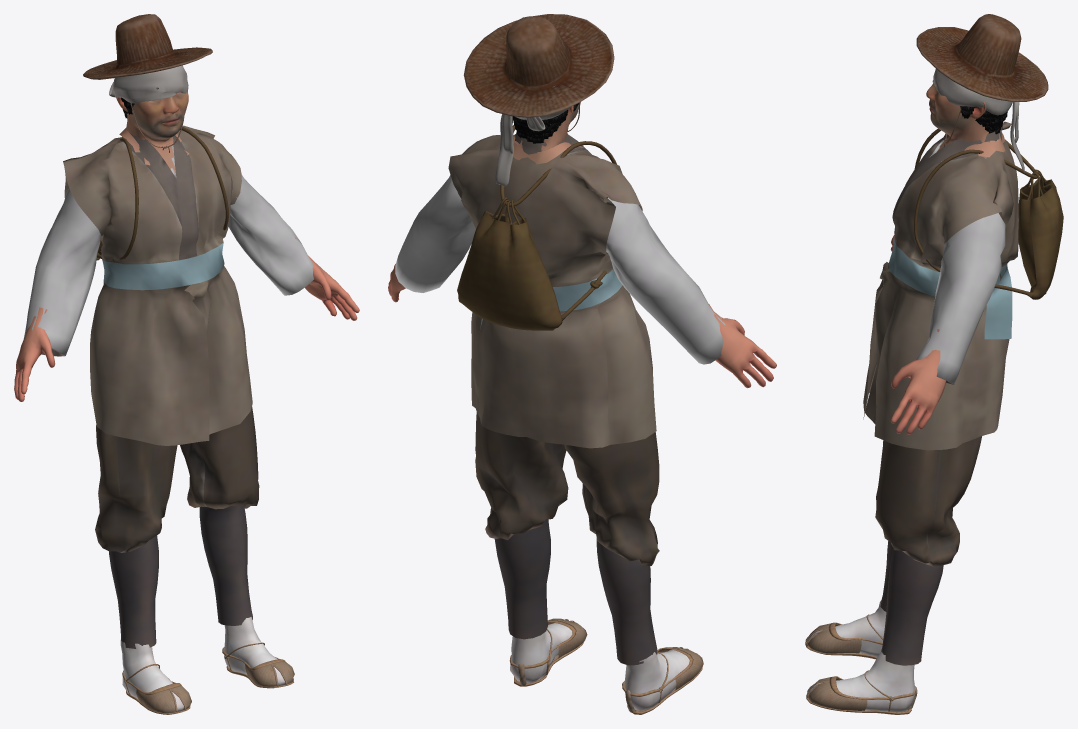
Rendered from merchant.fbx.
The picture shows the model from 3 angles, left to right: view 1: azimuth 30°, elevation 25°; view 2: azimuth 150°, elevation 25°; view 3: azimuth 270°, elevation 25°; orthographic projection. The views are drawn at different scales.
Visible parts, largest first — view 1: NPC_Merchant_Mesh_0; view 2: NPC_Merchant_Mesh_0; view 3: NPC_Merchant_Mesh_0.
Boxes of the visible parts, x1,y1,x2,y2 form: NPC_Merchant_Mesh_0: (14,14,359,714); NPC_Merchant_Mesh_0: (388,14,776,714); NPC_Merchant_Mesh_0: (805,14,1063,714).
Bounding box in the file's own units: 99.92 × 179 × 62.83.
3 materials, 3 textured.
